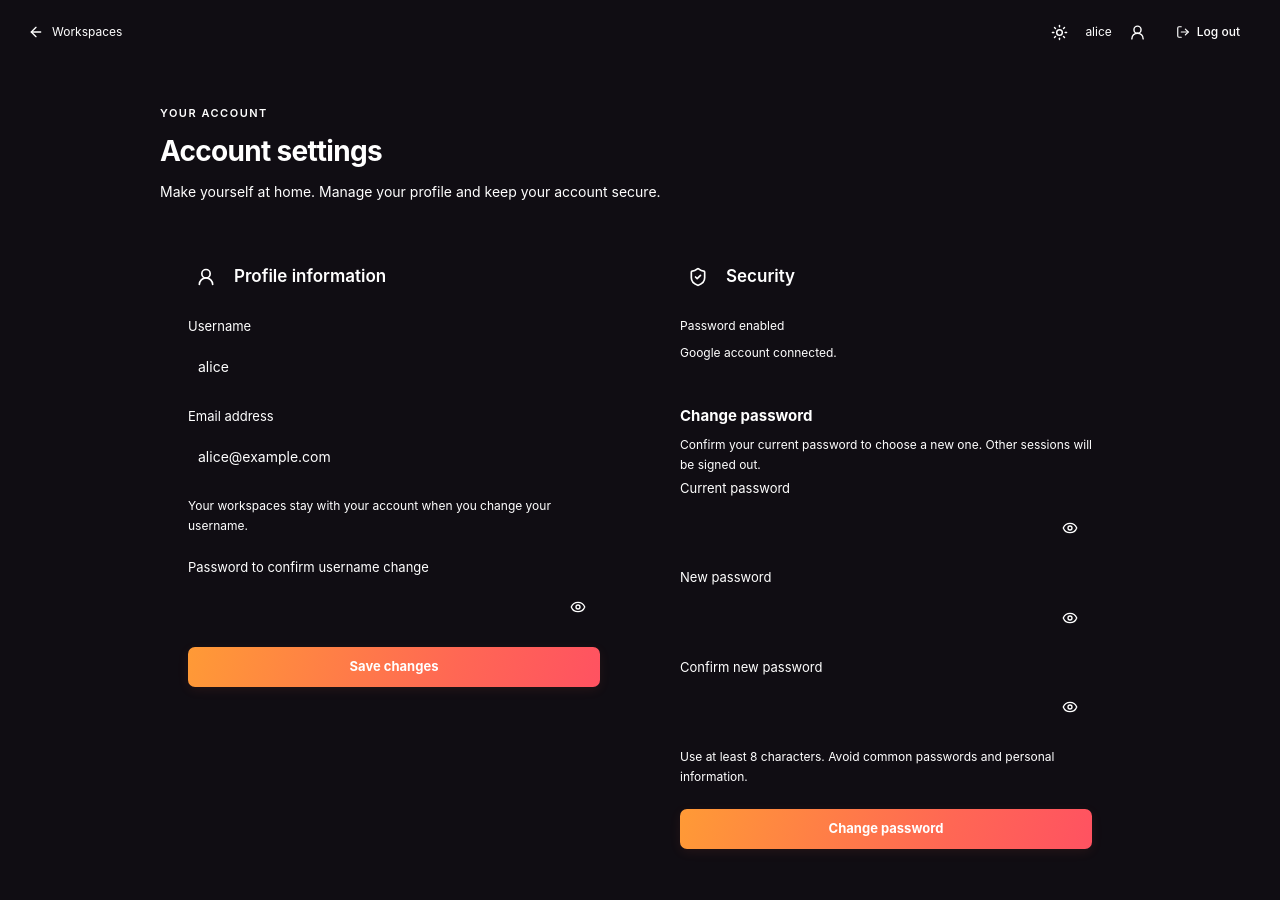
Scenario: requires current password even for a Google-linked password account
Expected: the field labelled "Username" is enabled, [188,345,600,389]
Type "Original-secret!7524" into the password field labelled "Current password" at (886, 528), box [680,506,1092,550]
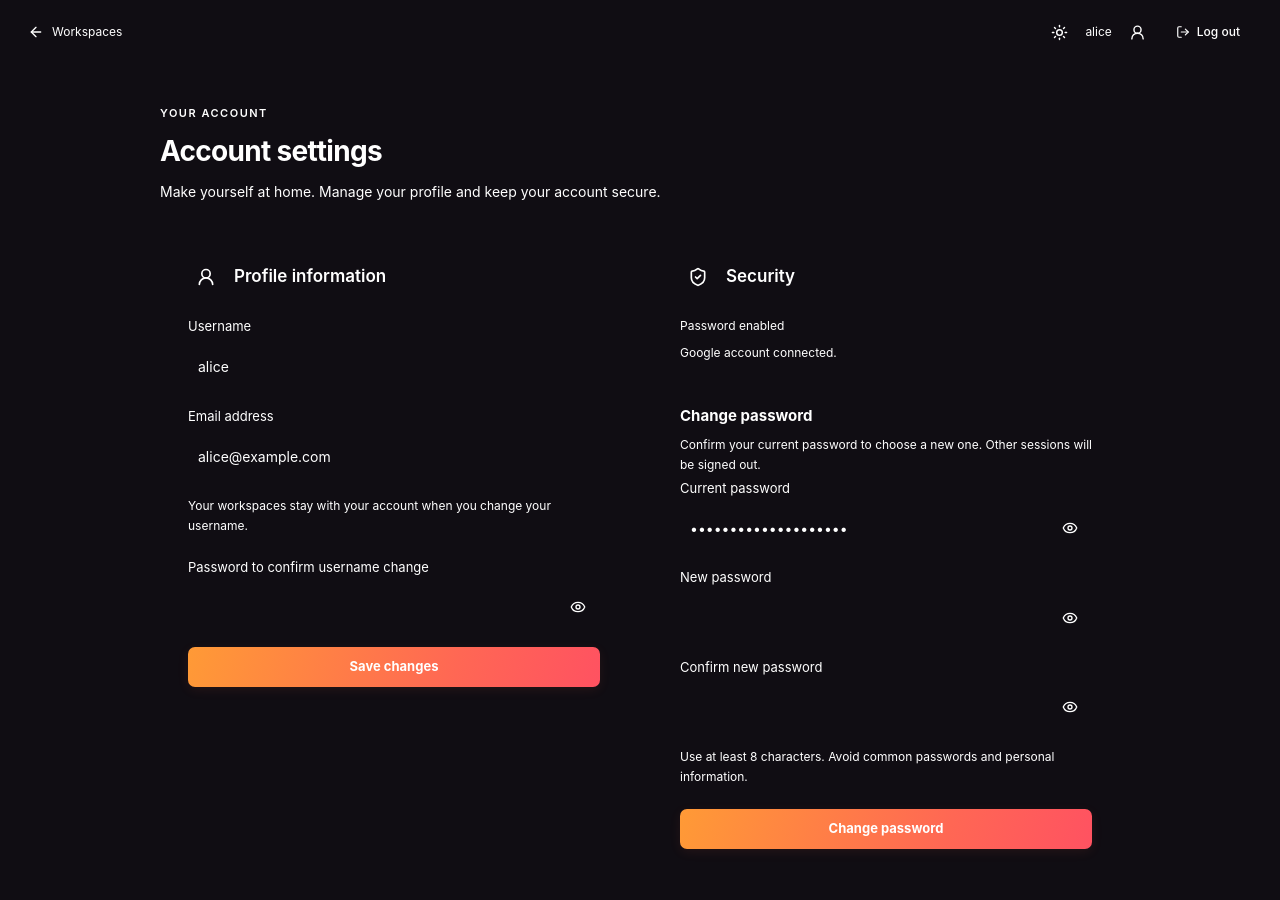
Type "A-different-secret!9274" into the password field labelled "New password" at (886, 618), box [680,596,1092,640]
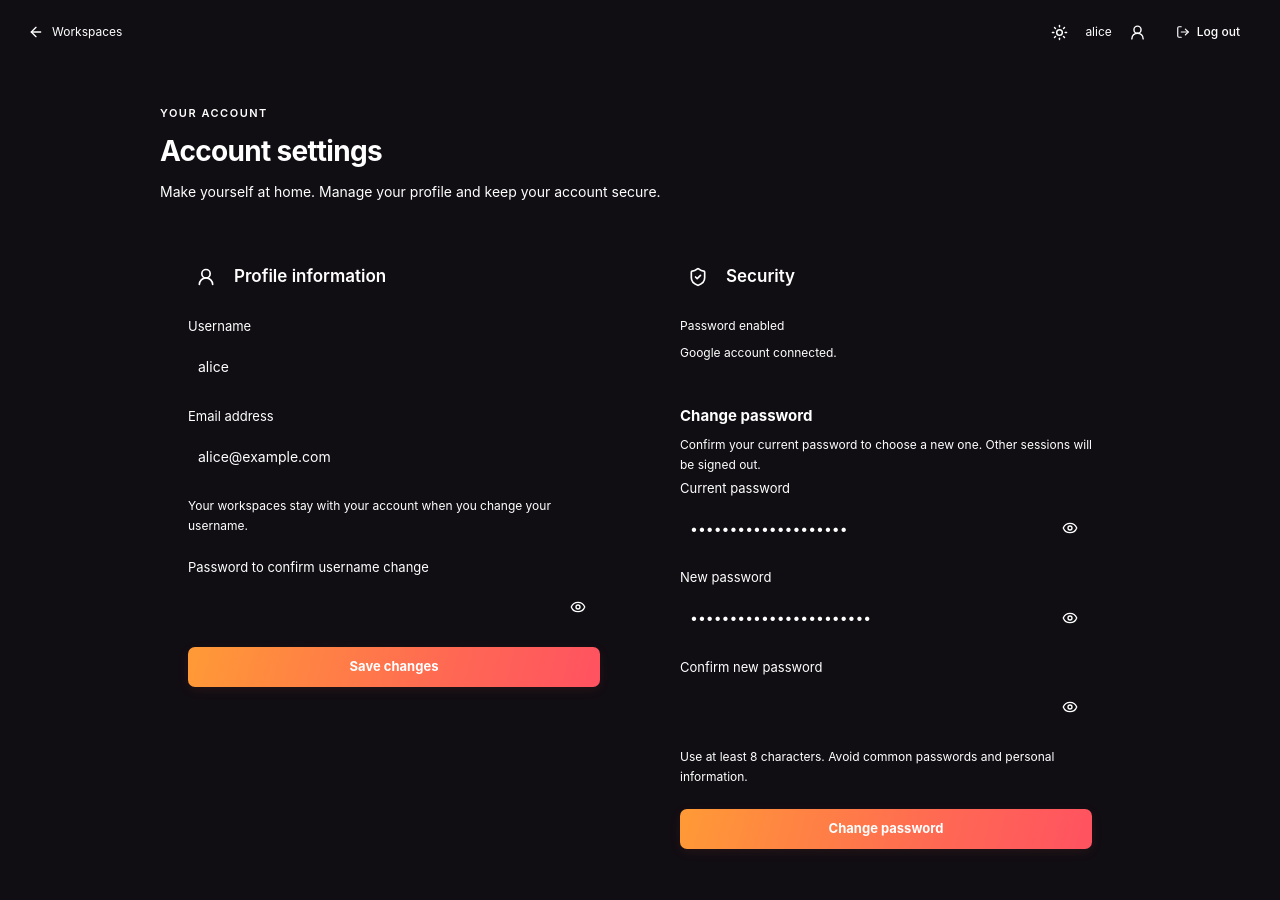
Type "A-different-secret!9274" into the password field labelled "Confirm new password" at (886, 708), box [680,686,1092,730]
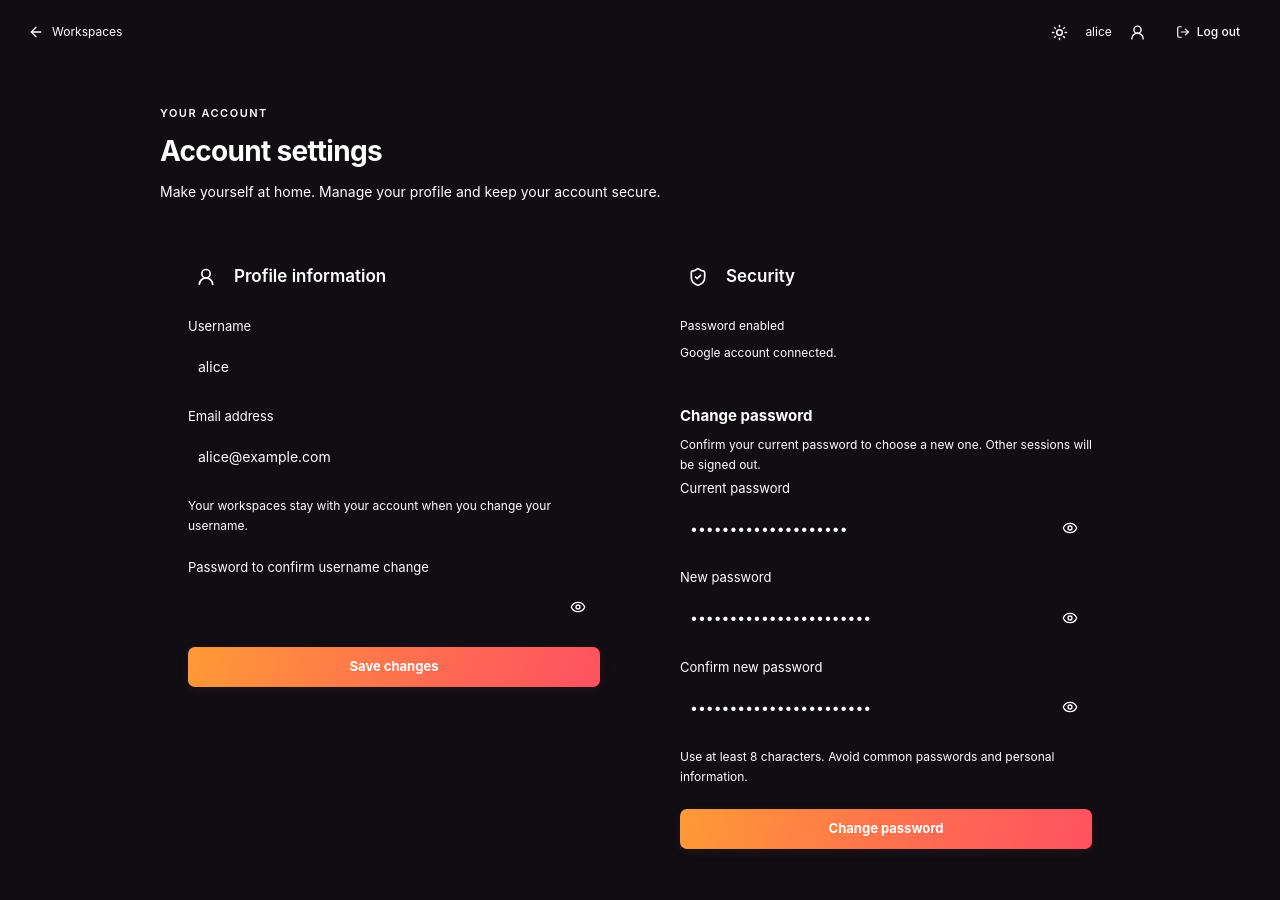
Click the button "Change password" at (886, 829), box [680,809,1092,849]
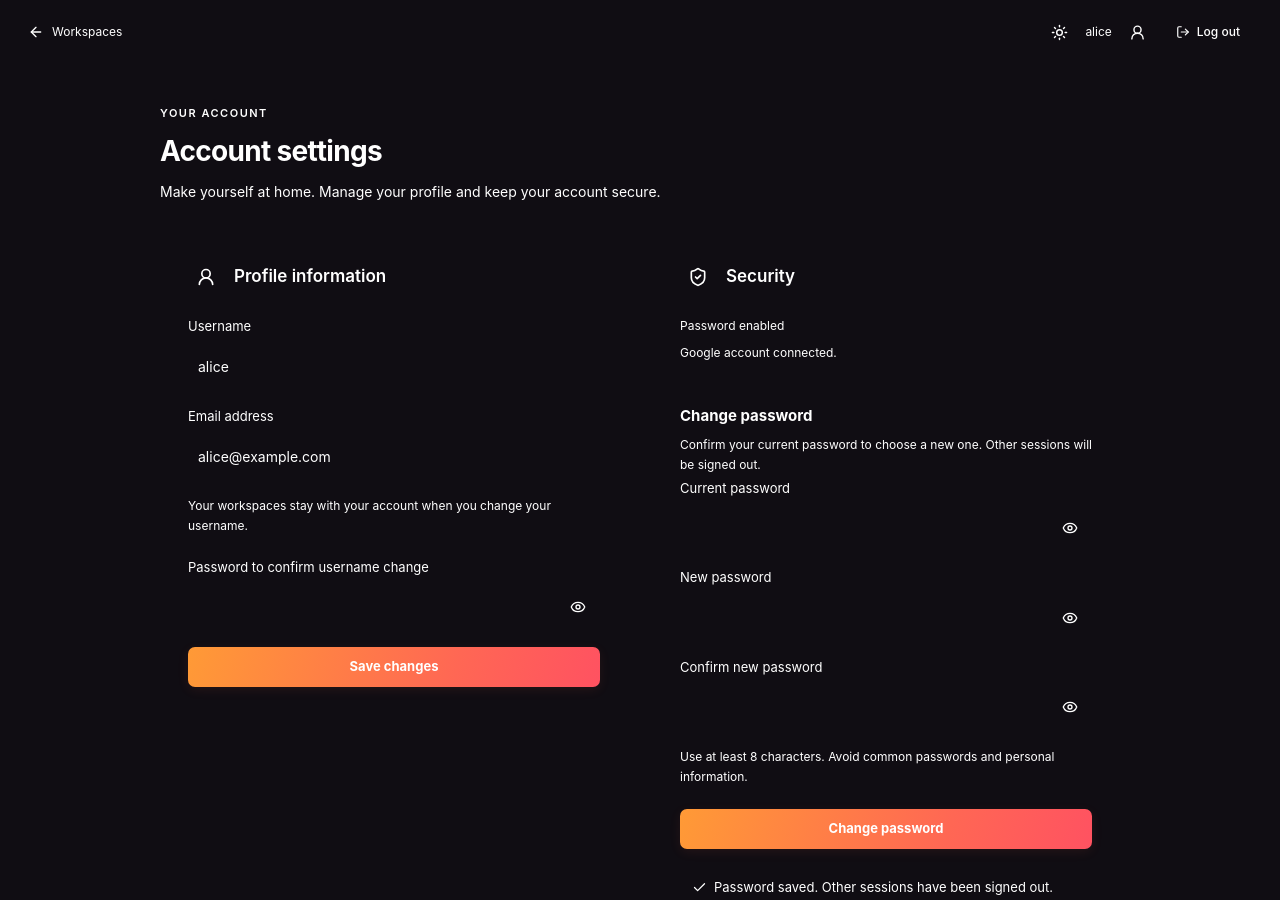
Now the message shows "Other sessions have been signed out.", box [714,879,1053,895]
Now the password field labelled "New password" is empty, box [680,596,1092,640]
